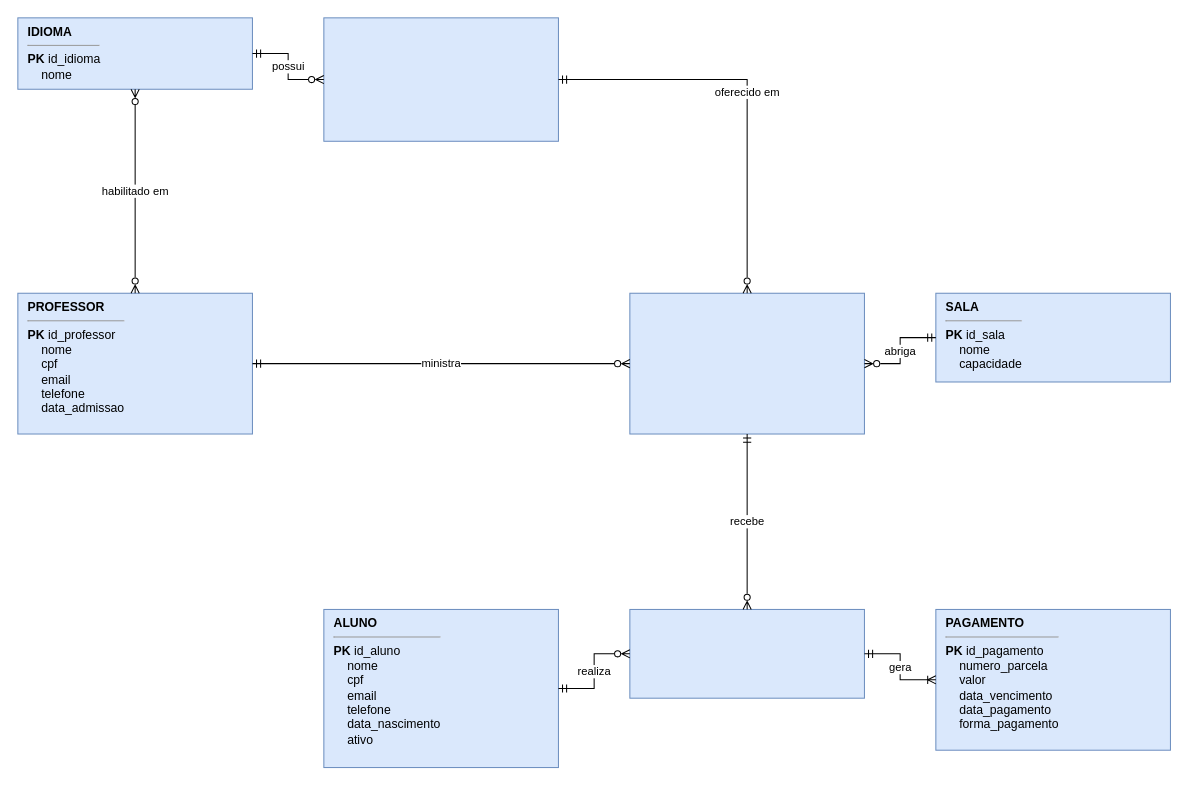
Image size: 1188x785. Some labels were removed from this diagram. Here are the shapes that lost their labels. From the top down, the centre of each, then its label:
At (x=440, y=79): "CURSO PK id_curso nome nivel carga_horaria valor_mensalidade".
At (x=746, y=363): "TURMA PK id_turma semestre dia_semana hora_inicio hora_fim vagas".
At (x=746, y=653): "MATRICULA PK id_matricula data_matricula situacao".
